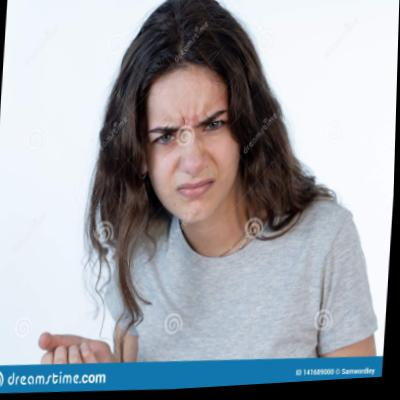angry: (122, 34, 258, 235)
